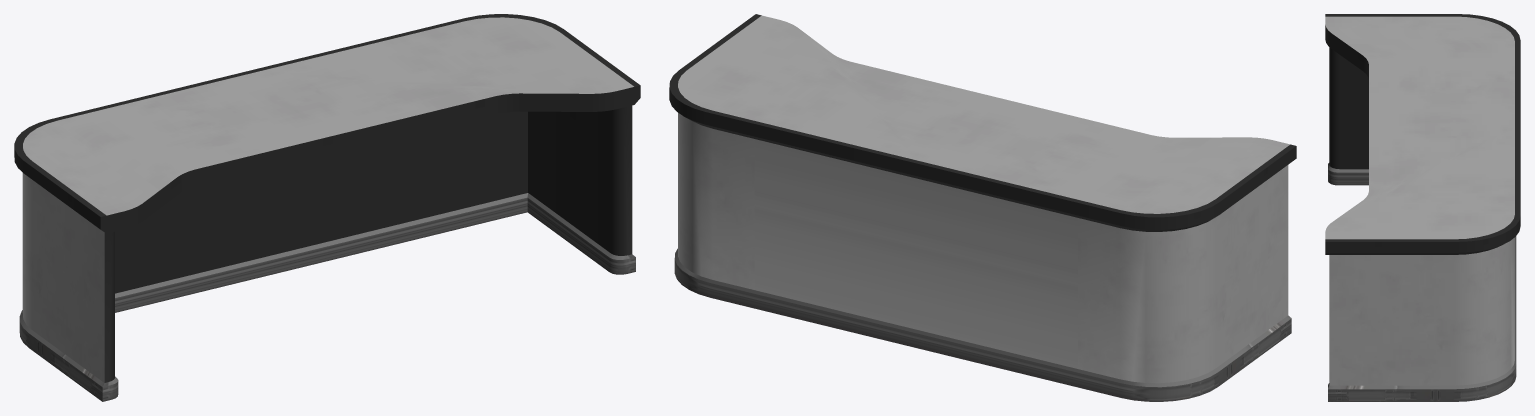
The model's file is workbench.glb.
3 renders of one model, left to right at view 1: azimuth 30°, elevation 25°; view 2: azimuth 150°, elevation 25°; view 3: azimuth 270°, elevation 25°, orthographic. The views are drawn at different scales.
Visible parts, largest first — view 1: Prop_Desk_Medium; view 2: Prop_Desk_Medium; view 3: Prop_Desk_Medium.
Part boxes in pixels (x1,y1,x2,y2): Prop_Desk_Medium: (14, 14, 640, 401); Prop_Desk_Medium: (669, 14, 1296, 401); Prop_Desk_Medium: (1325, 14, 1520, 401).
Bounding box in the file's own units: 2.84 × 0.9396 × 1.03.
Materials: 3 (3 with a texture image).
